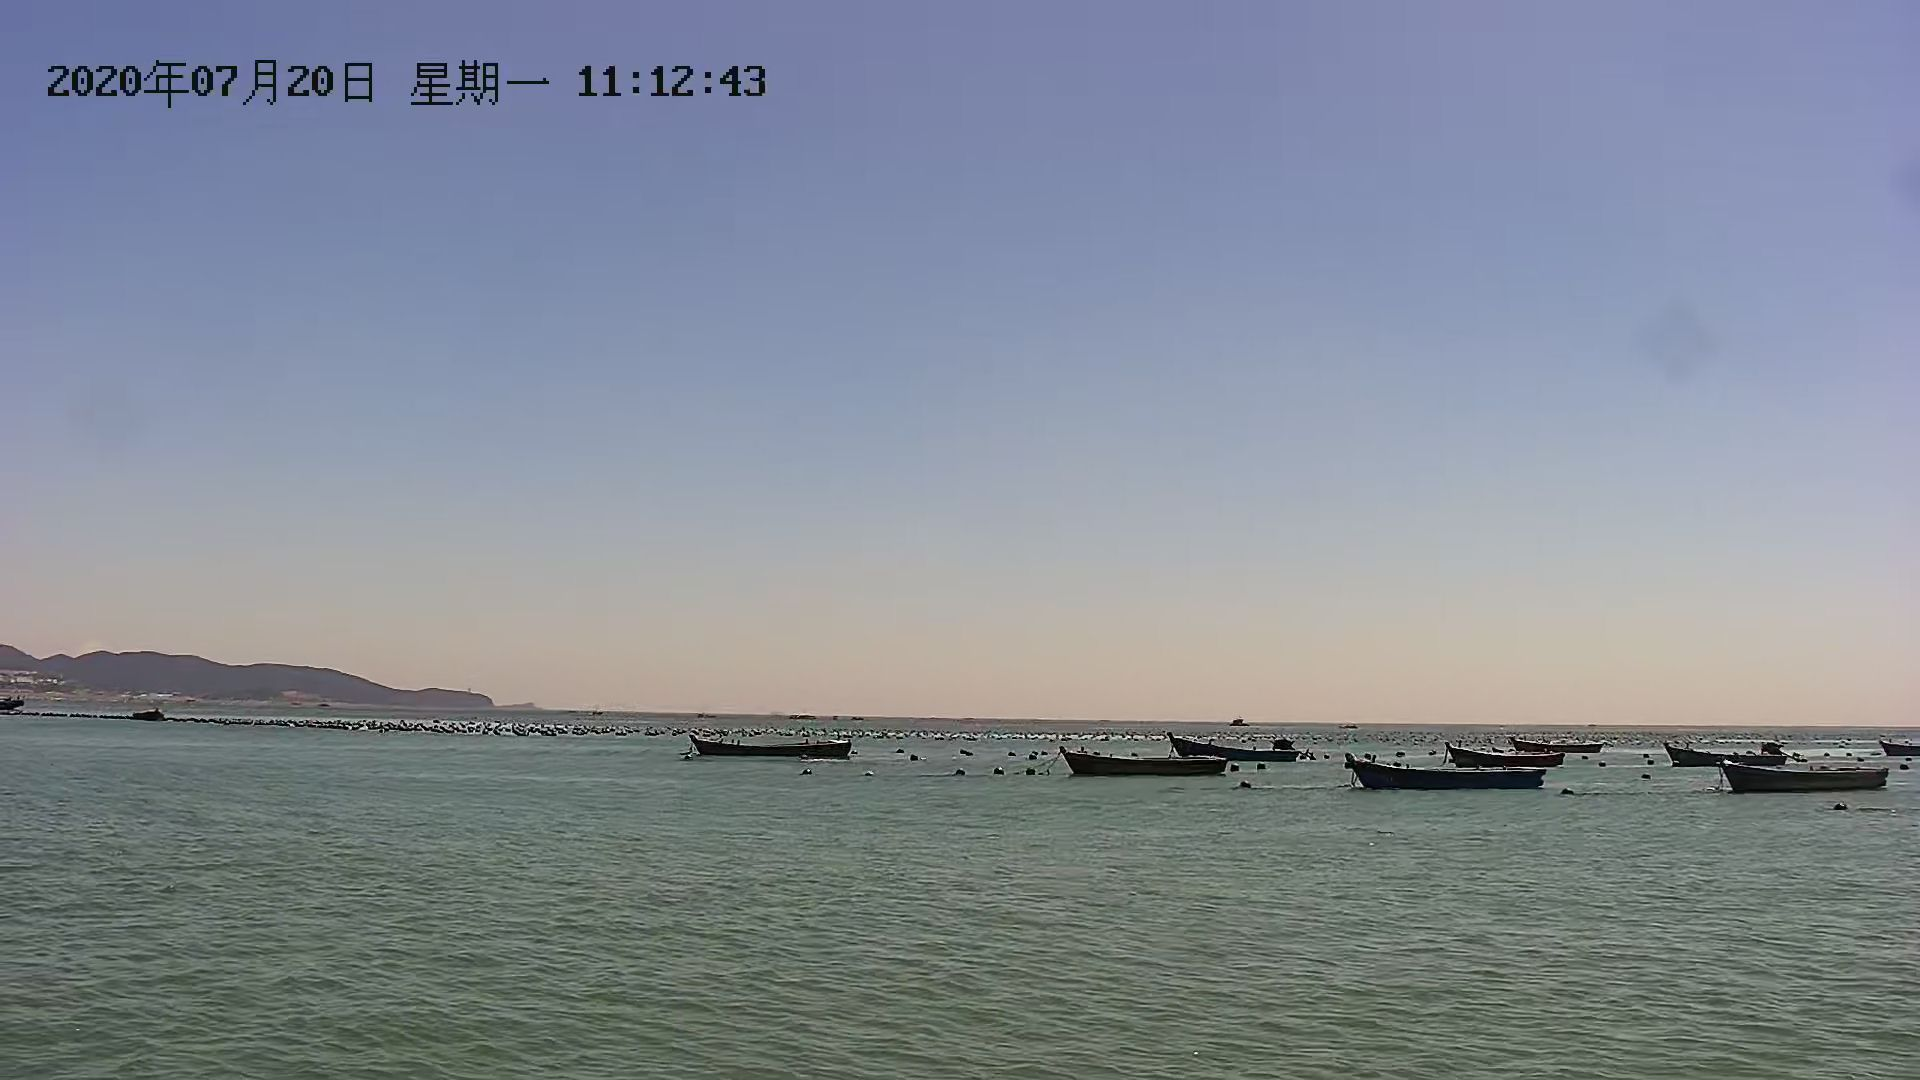boat: (1340, 752, 1563, 794), (1060, 746, 1240, 783), (684, 735, 869, 764), (1712, 764, 1898, 791), (1178, 731, 1311, 767), (1437, 746, 1584, 773), (1660, 745, 1799, 765), (1493, 738, 1607, 762)
rock: (1, 636, 524, 721)
